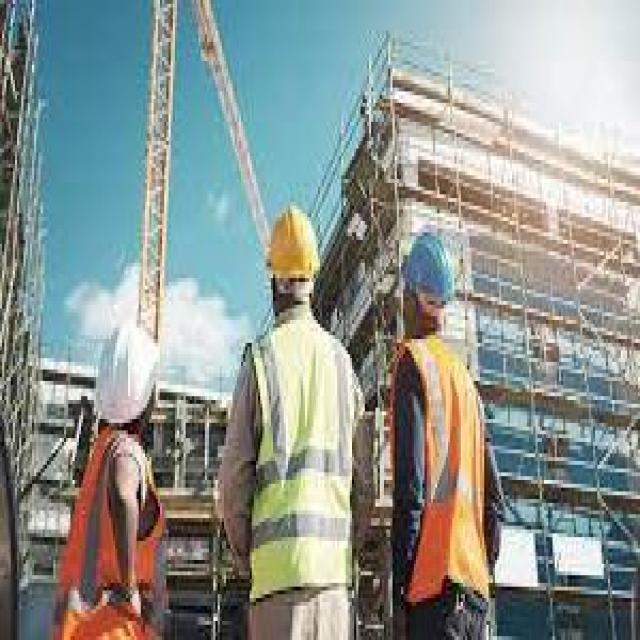Reflective-Jacket: (232, 312, 360, 610), (384, 332, 495, 617), (62, 427, 171, 636)
Safety-Helmet: (90, 309, 170, 434), (390, 210, 468, 320), (254, 194, 328, 301)
